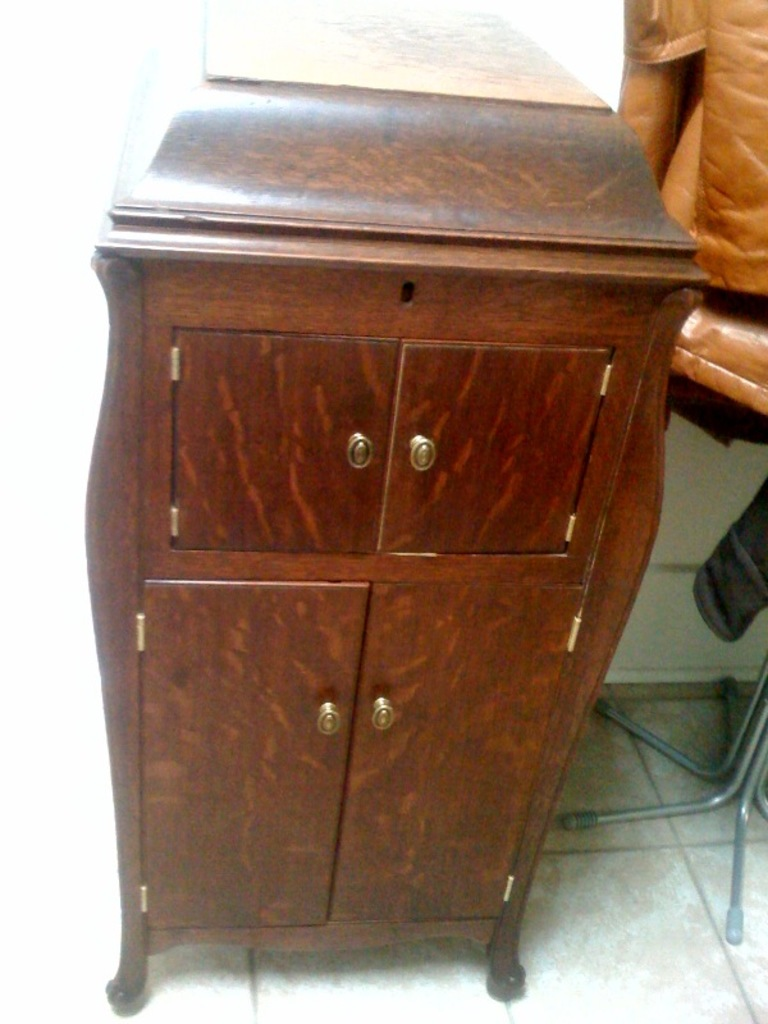cabinet door: (139, 580, 349, 899), (370, 573, 517, 932), (181, 334, 380, 556), (387, 348, 581, 566)
handle: (344, 421, 378, 485), (403, 432, 439, 486), (373, 688, 392, 741), (319, 703, 341, 742)
